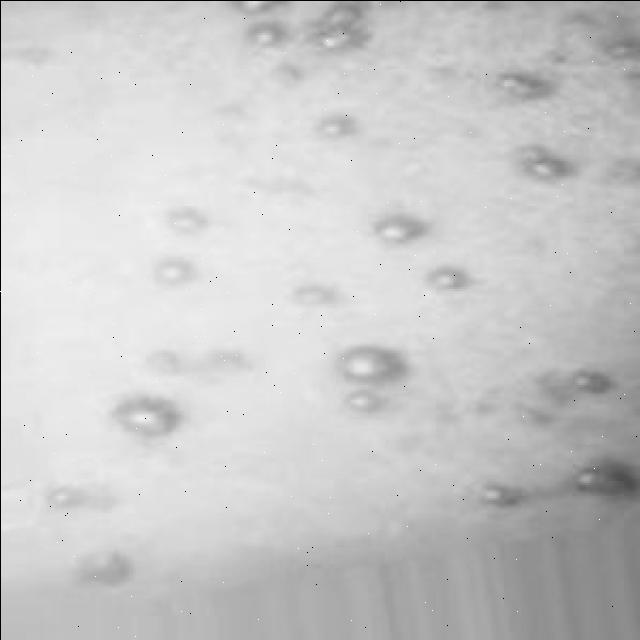Shingles: (113, 397, 182, 439), (539, 367, 612, 404), (340, 344, 402, 383), (573, 457, 635, 495), (77, 550, 132, 586), (518, 148, 570, 181), (498, 71, 551, 101), (377, 214, 427, 243), (292, 281, 343, 307), (152, 257, 196, 287), (46, 484, 93, 510), (245, 19, 286, 48), (429, 266, 472, 293), (165, 206, 208, 233), (480, 481, 523, 507), (318, 112, 358, 139), (319, 26, 353, 49)
